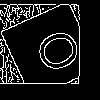O: (24, 24, 84, 81)
